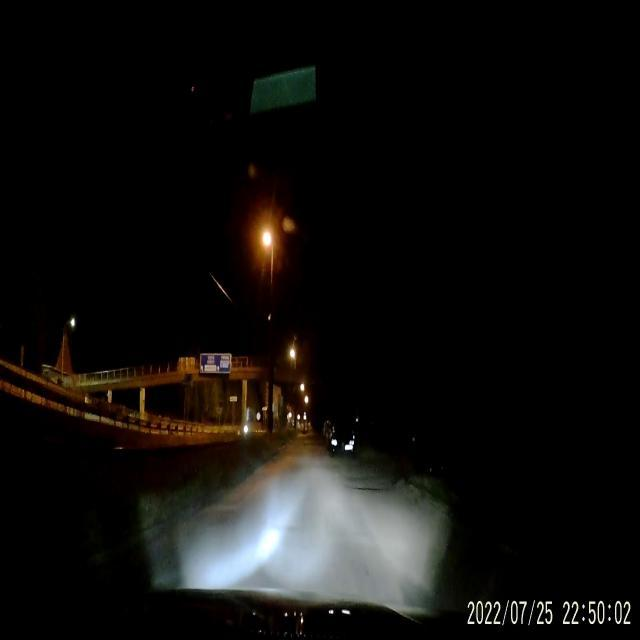Pothole: (348, 476, 390, 502)
